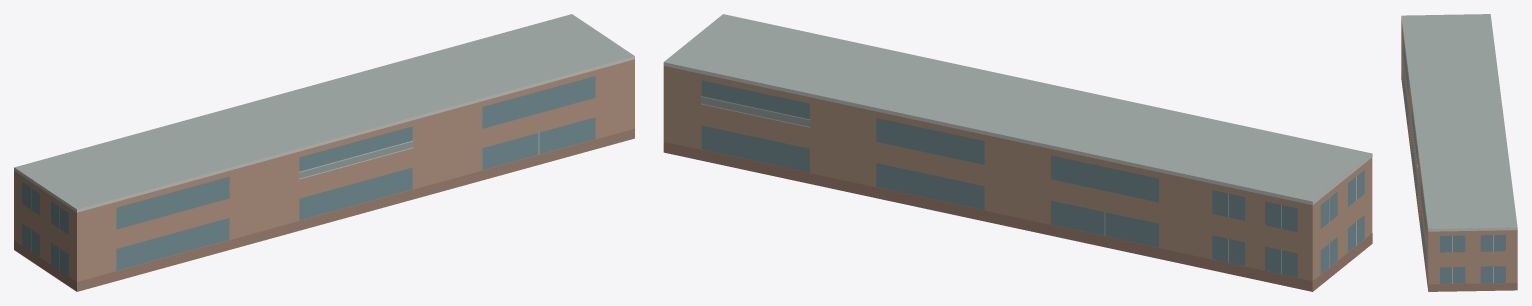
The model's file is survey-upis-32985560.glb.
The picture shows the model from 3 angles, left to right: view 1: azimuth 30°, elevation 25°; view 2: azimuth 150°, elevation 25°; view 3: azimuth 270°, elevation 25°; orthographic projection. The views are drawn at different scales.
Visible parts, largest first — view 1: survey-upis-32985560.tmp; view 2: survey-upis-32985560.tmp; view 3: survey-upis-32985560.tmp.
Part boxes in pixels (box(x1,y1,x2,y2)): survey-upis-32985560.tmp: box(14, 14, 634, 291); survey-upis-32985560.tmp: box(663, 14, 1372, 291); survey-upis-32985560.tmp: box(1401, 14, 1517, 291).
Bounding box in the file's own units: 44.85 × 6.1 × 10.25.
